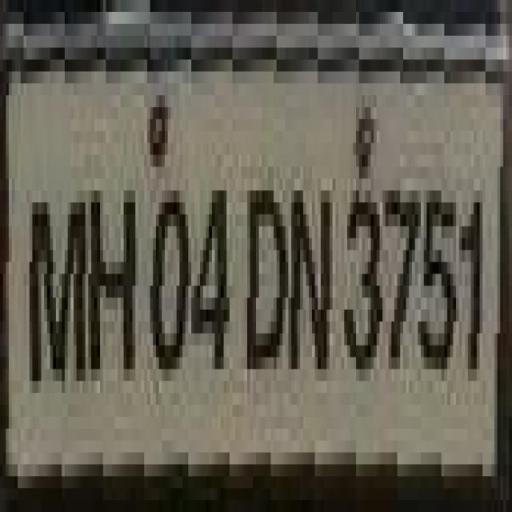number plate: (0, 23, 491, 500)
